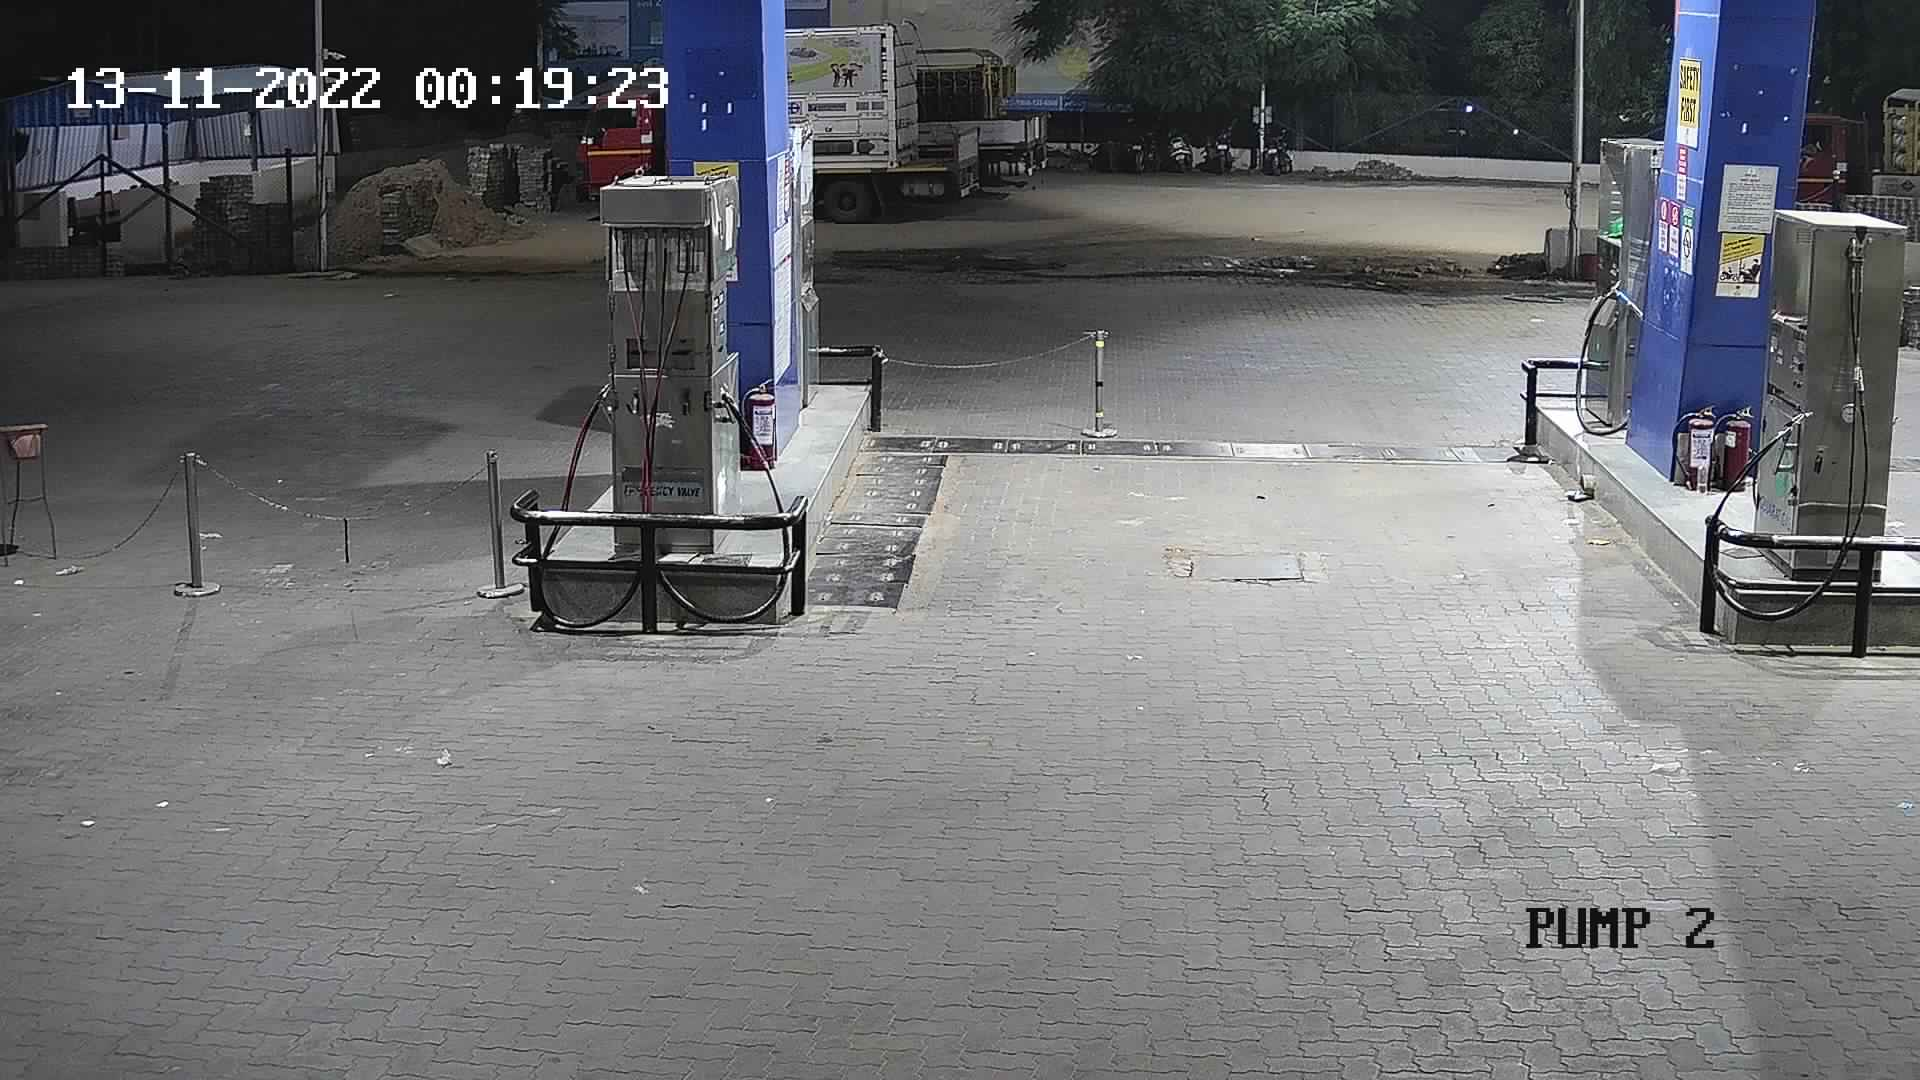Bike: (1245, 109, 1299, 187), (1159, 113, 1215, 185), (1203, 117, 1254, 182), (1124, 123, 1166, 186)
HMV: (775, 17, 1010, 218), (902, 29, 1076, 203), (1772, 57, 1917, 241)
